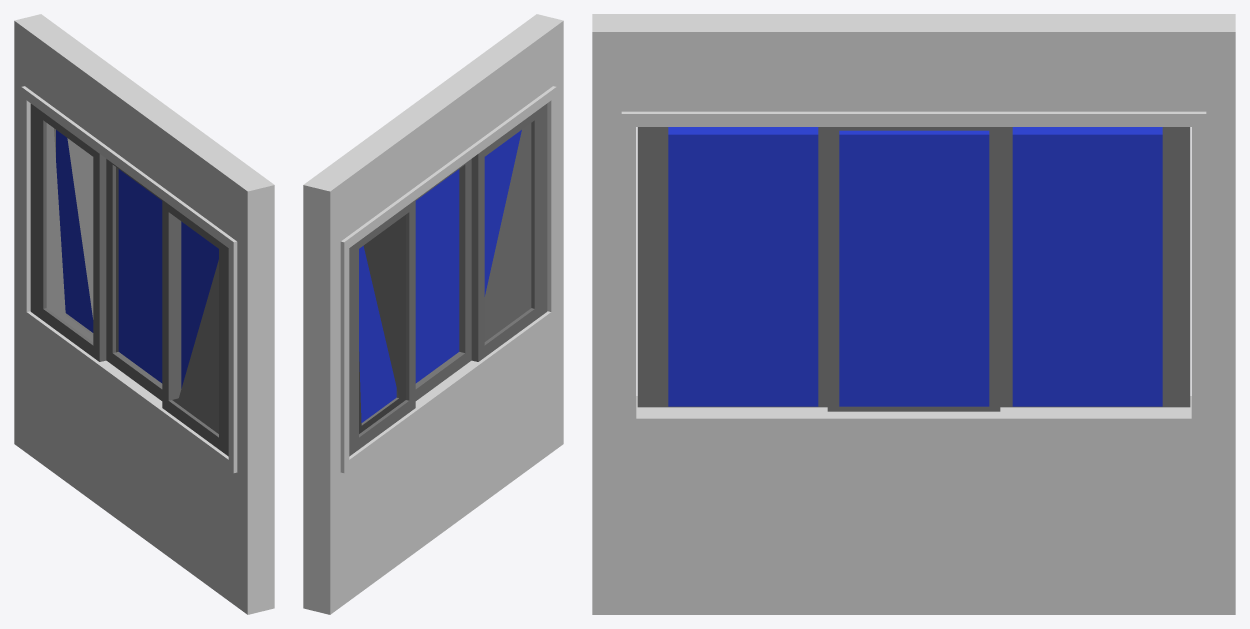
3 renders of one model, left to right at view 1: azimuth 30°, elevation 25°; view 2: azimuth 150°, elevation 25°; view 3: azimuth 270°, elevation 25°, orthographic. The views are drawn at different scales.
Visible parts, largest first — view 1: Cube, 立方体, 立方体.002, 立方体.003, 立方体.001; view 2: Cube, 立方体, 立方体.002, 立方体.003, 立方体.001; view 3: Cube, 立方体.001, 立方体.003, 立方体.002, 立方体.
Part boxes in pixels (left/top/right/bottom): Cube: left=14, top=14, right=274, bottom=614; 立方体: left=30, top=103, right=228, bottom=456; 立方体.002: left=118, top=169, right=162, bottom=383; 立方体.003: left=56, top=130, right=93, bottom=332; 立方体.001: left=181, top=221, right=218, bottom=388; Cube: left=303, top=14, right=563, bottom=614; 立方体: left=349, top=103, right=547, bottom=456; 立方体.002: left=415, top=169, right=459, bottom=383; 立方体.003: left=359, top=246, right=396, bottom=422; 立方体.001: left=484, top=130, right=521, bottom=296; Cube: left=592, top=14, right=1235, bottom=614; 立方体.001: left=668, top=127, right=818, bottom=406; 立方体.003: left=1012, top=127, right=1162, bottom=406; 立方体.002: left=839, top=130, right=989, bottom=406; 立方体: left=637, top=127, right=1190, bottom=411.
Bounding box in the file's own units: 50 × 600 × 600.
